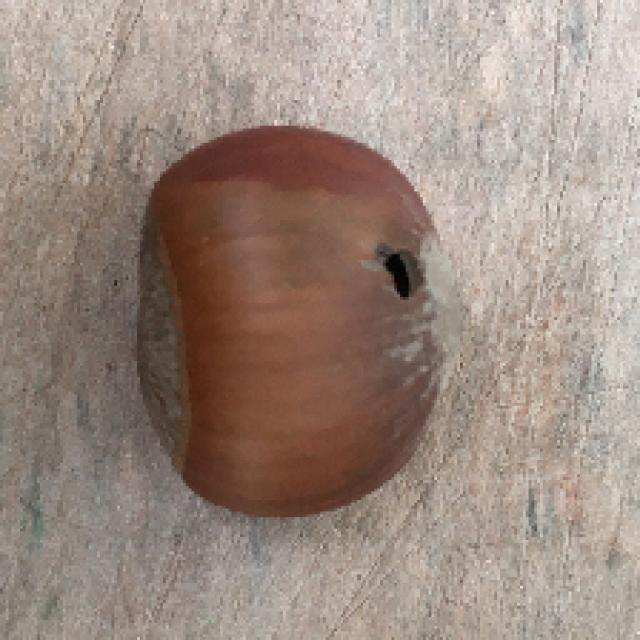damagedHazelnut: (130, 121, 460, 529)
